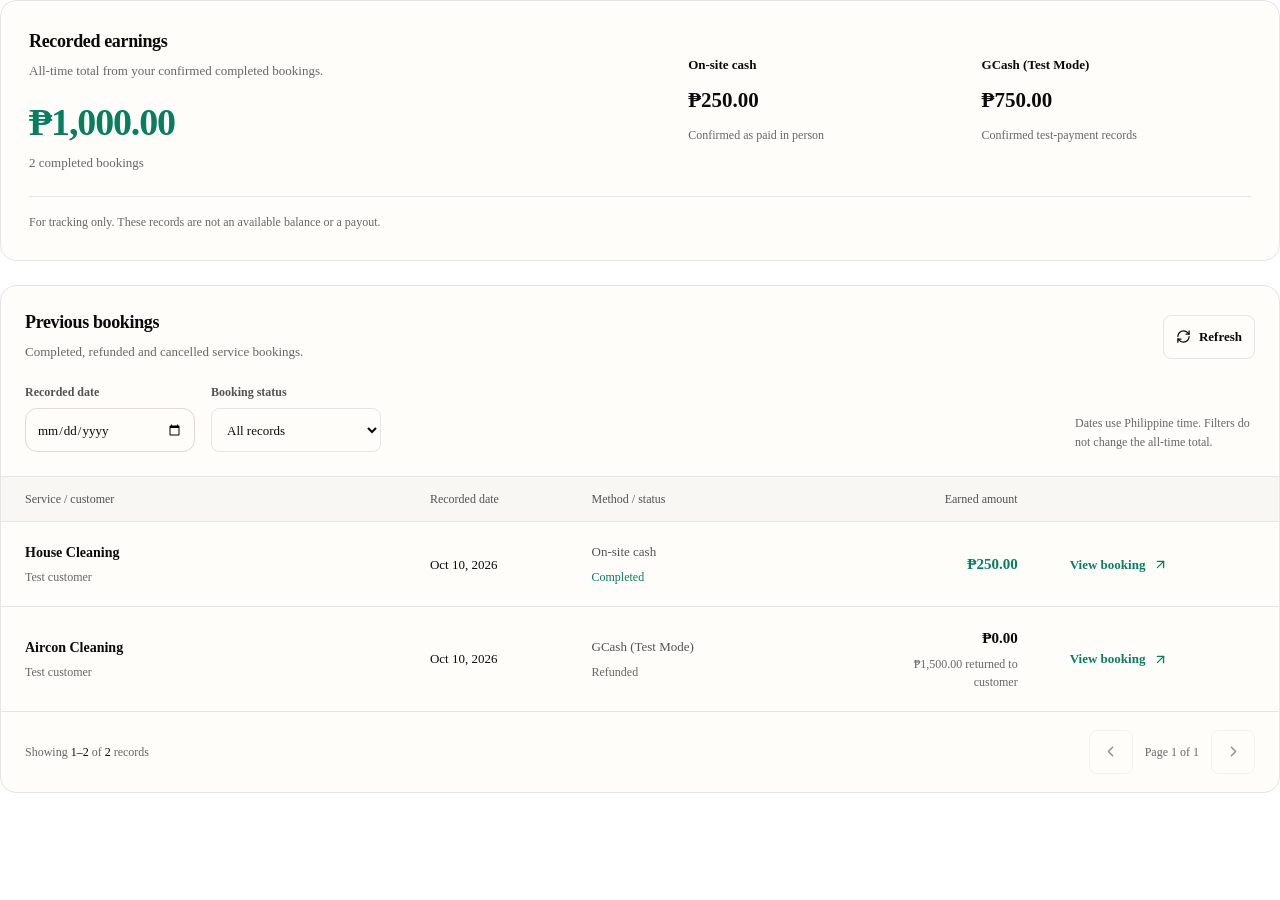
Scenario: Provider payment records › keeps known data during a failed background refresh
Check: the text "House Cleaning" is shown, box 25,545 -> 120,560
Click the button "Refresh".
click(1209, 337)  # box 1163,315 -> 1255,359
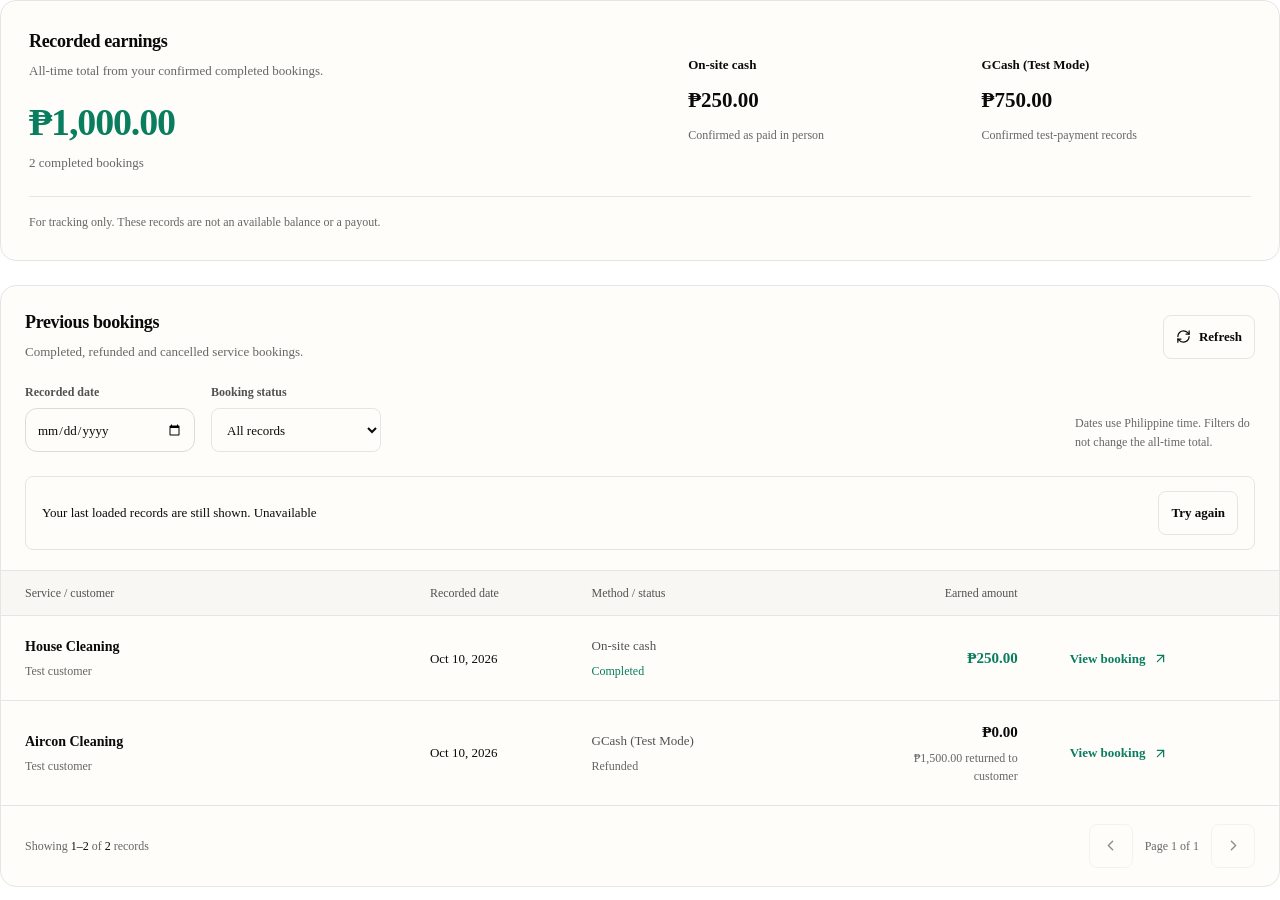
Check: the text "House Cleaning" is shown, box 25,639 -> 120,654
Check: the message shows "Your last loaded records are still shown", box 42,505 -> 254,520
